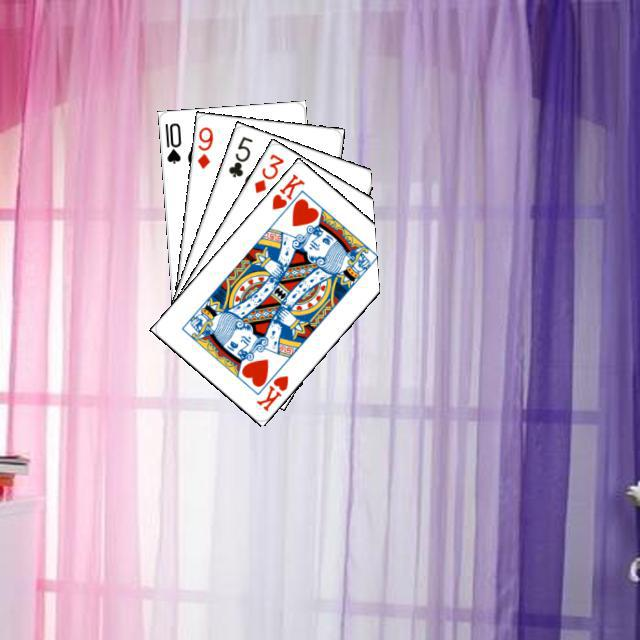10s: (160, 118, 183, 165)
3d: (249, 149, 286, 195)
5c: (223, 131, 254, 179)
9d: (192, 122, 215, 170)
Kh: (267, 169, 307, 221), (251, 370, 290, 413)
